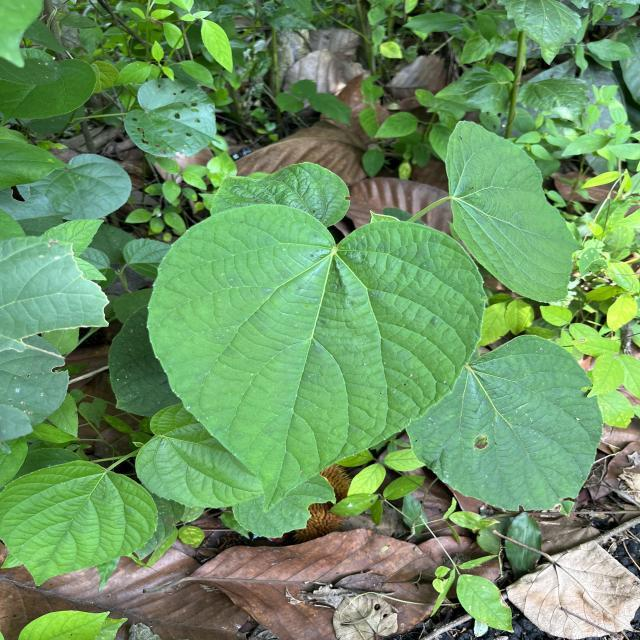Clerodendrum infortunatum: (144, 202, 489, 515), (404, 334, 602, 516), (446, 120, 586, 304), (0, 458, 160, 589)
